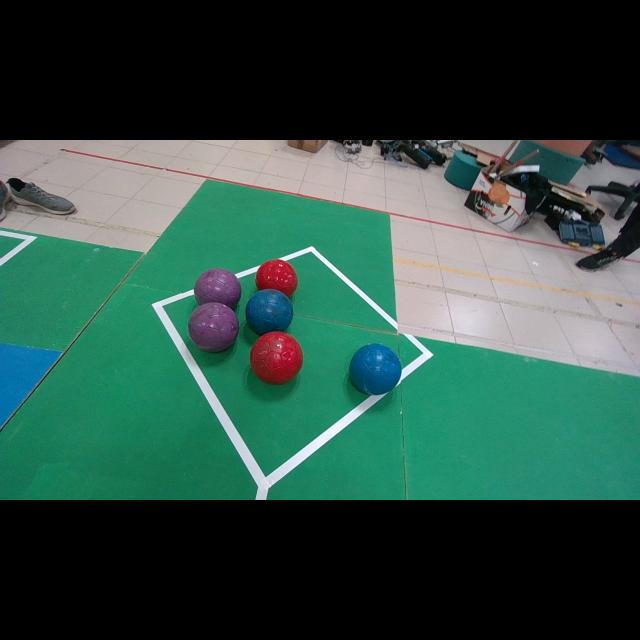B: (349, 344, 401, 395), (245, 289, 294, 334)
P: (188, 302, 239, 352), (194, 268, 241, 309)
R: (250, 331, 302, 385), (255, 259, 298, 296)
